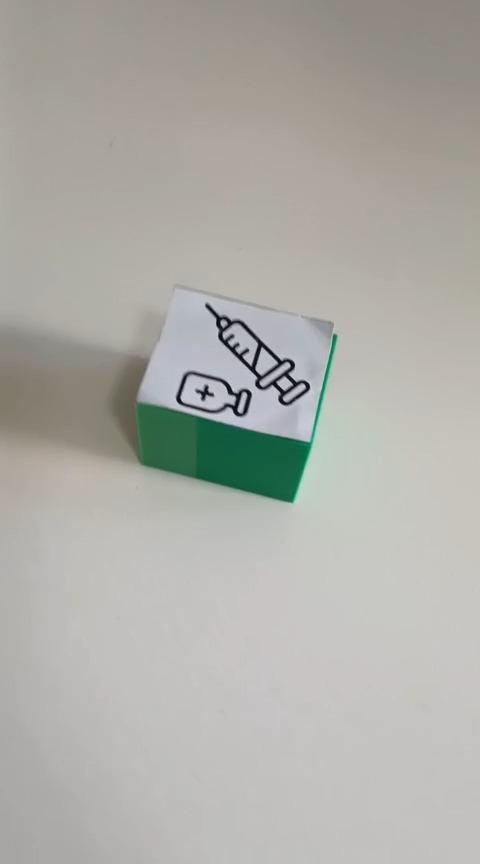antiseptic cream: (133, 282, 337, 504)
